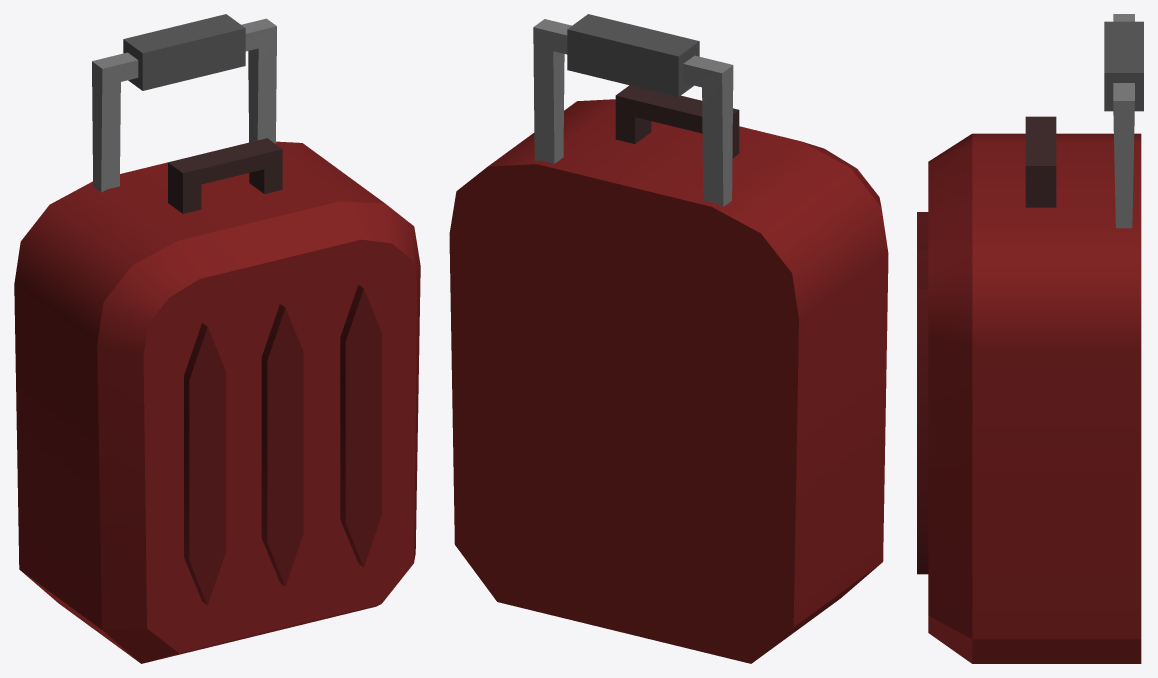
The model's file is bag_suitcase_wheels_v2.fbx.
The picture shows the model from 3 angles, left to right: view 1: azimuth 30°, elevation 25°; view 2: azimuth 150°, elevation 25°; view 3: azimuth 270°, elevation 25°; orthographic projection. The views are drawn at different scales.
Parts seen in each view (by area): view 1: bag_suitcase_wheels_v2; view 2: bag_suitcase_wheels_v2; view 3: bag_suitcase_wheels_v2.
Part boxes in pixels (bbox=[...]): bag_suitcase_wheels_v2: bbox=[14, 14, 420, 663]; bag_suitcase_wheels_v2: bbox=[449, 14, 888, 663]; bag_suitcase_wheels_v2: bbox=[917, 14, 1143, 663].
Size of the model in its own units: 54.24 by 87.66 by 32.29.
